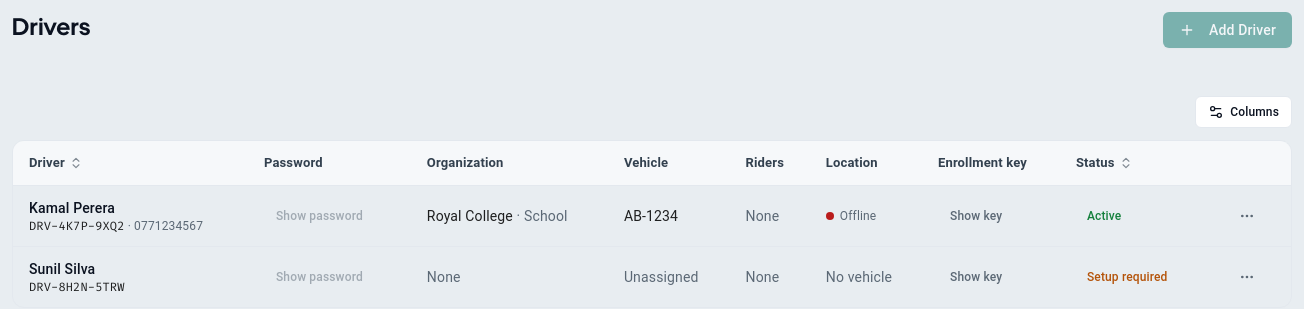
ManagerAccountsPage: enrollment key offline (Offline & Caching Audit, chunk 2) › re-hiding a cached key keeps it re-openable offline
Click the button "Show key" in the row of "Kamal Perera".
click(976, 216)  # box left=938, top=200, right=1014, bottom=232
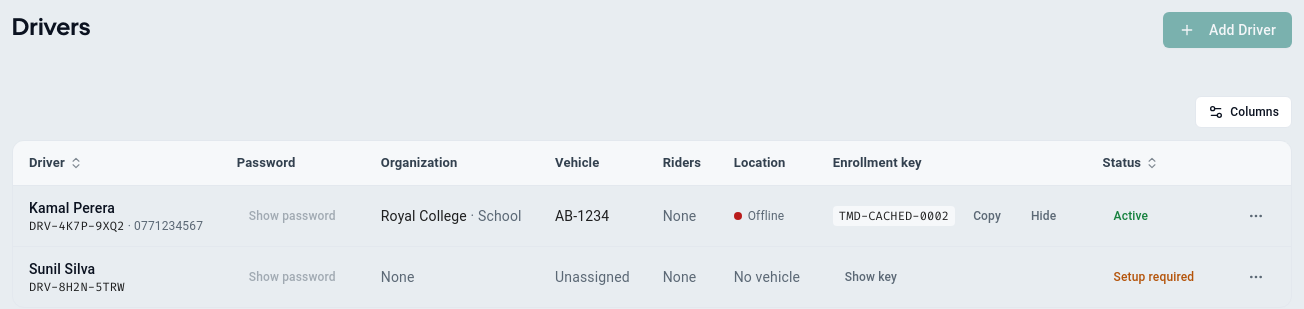
Expected: the text "TMD-CACHED-0002" is shown, left=833, top=206, right=955, bottom=226
Click the button "Hide".
click(1044, 216)  # box left=1019, top=200, right=1068, bottom=232
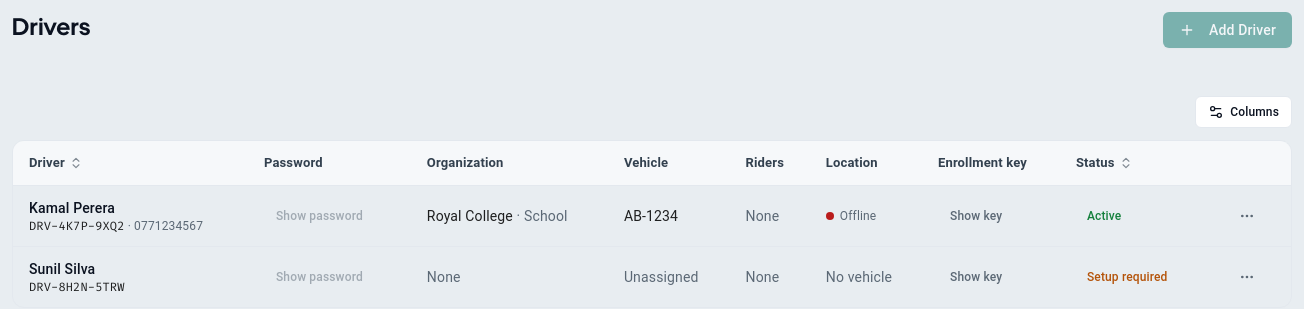
Expected: the text "TMD-CACHED-0002" is gone
Click the button "Show key" in the row of "Kamal Perera".
click(976, 216)  # box left=938, top=200, right=1014, bottom=232
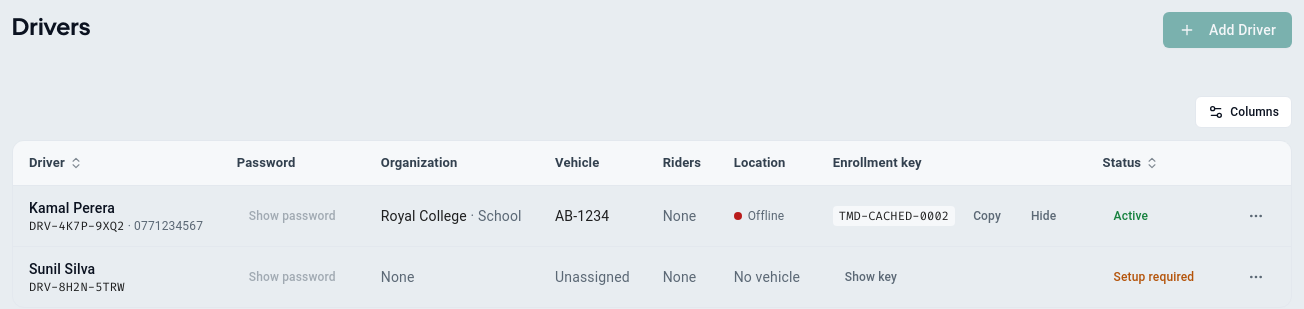
Expected: the text "TMD-CACHED-0002" is shown, left=833, top=206, right=955, bottom=226
